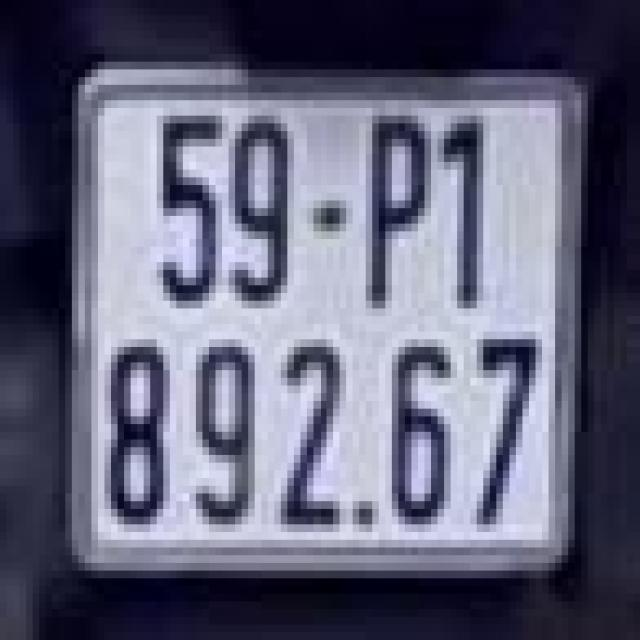1: (434, 93, 493, 316)
2: (261, 328, 346, 536)
5: (150, 108, 229, 308)
6: (376, 328, 460, 536)
7: (470, 316, 549, 532)
8: (91, 324, 183, 540)
9: (186, 324, 265, 532), (225, 108, 297, 316)
P: (356, 100, 434, 324)
